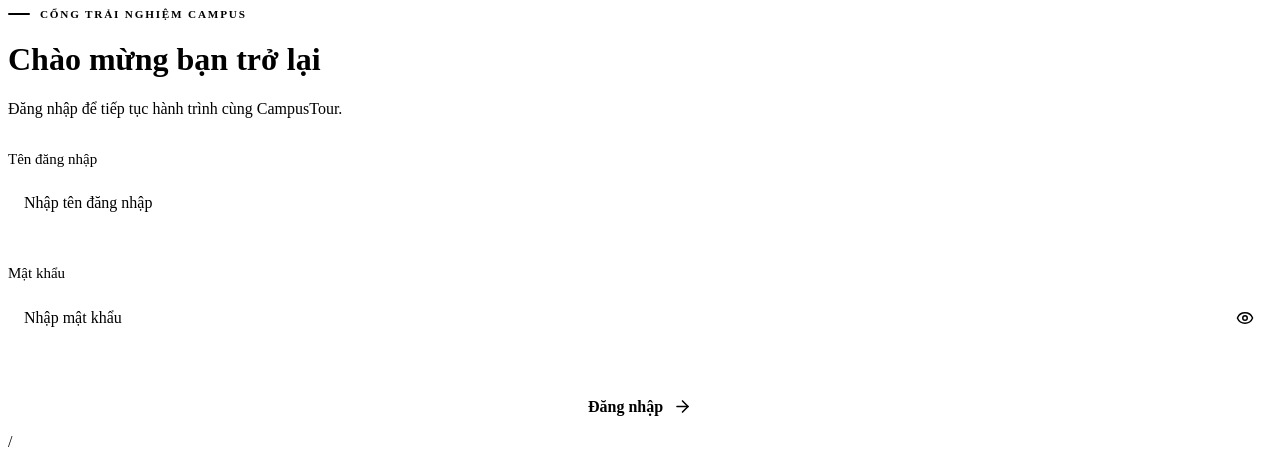
Test: LoginPage › ties a validation message to the field it belongs to
The width and height of the screenshot is (1280, 464).
Click the button "Đăng nhập" at (640, 407), box [8, 381, 1272, 433]
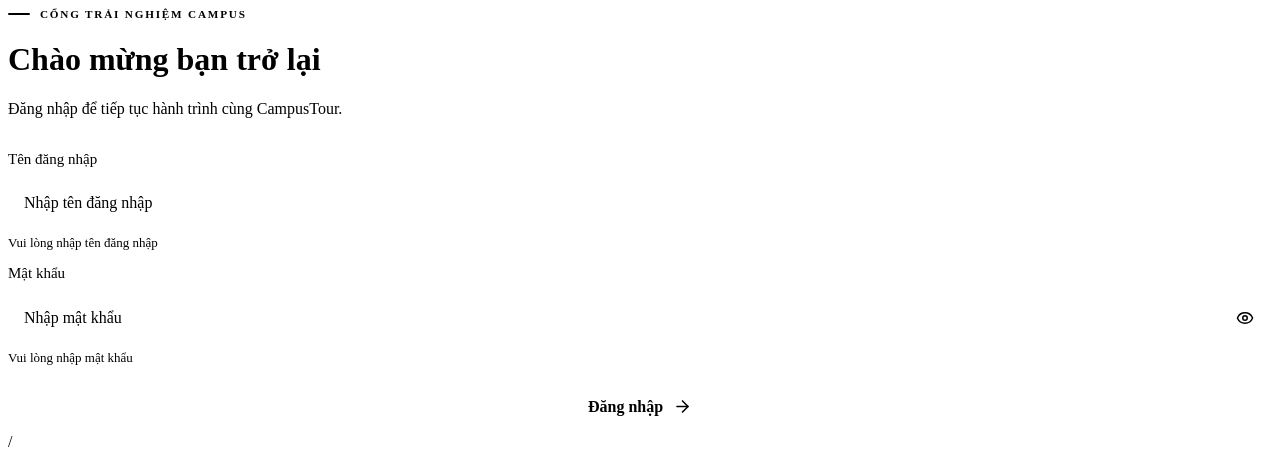
Now the message "Vui lòng nhập tên đăng nhập" is shown, box [8, 235, 158, 250]
